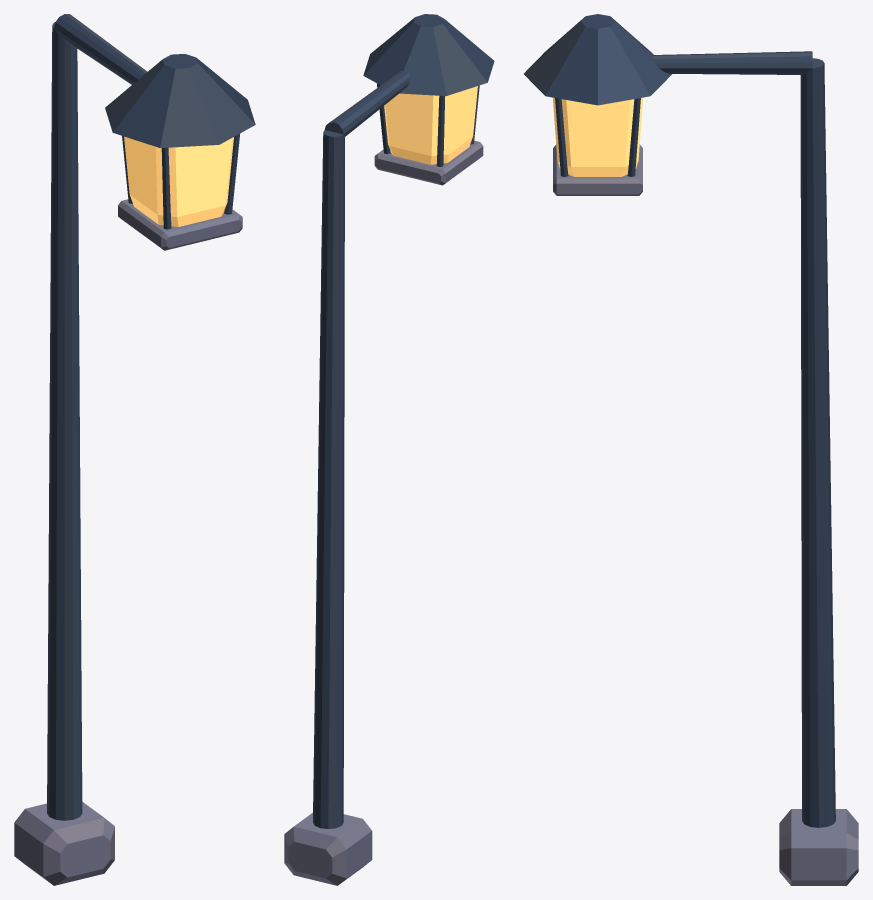
Rendered from HK_StreetLamp.glb.
3 views of the same model, side by side, from view 1: azimuth 30°, elevation 25°; view 2: azimuth 150°, elevation 25°; view 3: azimuth 270°, elevation 25° (orthographic). The views are drawn at different scales.
Visible parts, largest first — view 1: HK_StreetLamp; view 2: HK_StreetLamp; view 3: HK_StreetLamp.
Part boxes in pixels (<box>): HK_StreetLamp: <box>14,14,255,885</box>; HK_StreetLamp: <box>284,14,494,885</box>; HK_StreetLamp: <box>524,14,858,885</box>.
Bounding box in the file's own units: 0.81 × 5.11 × 1.82.
